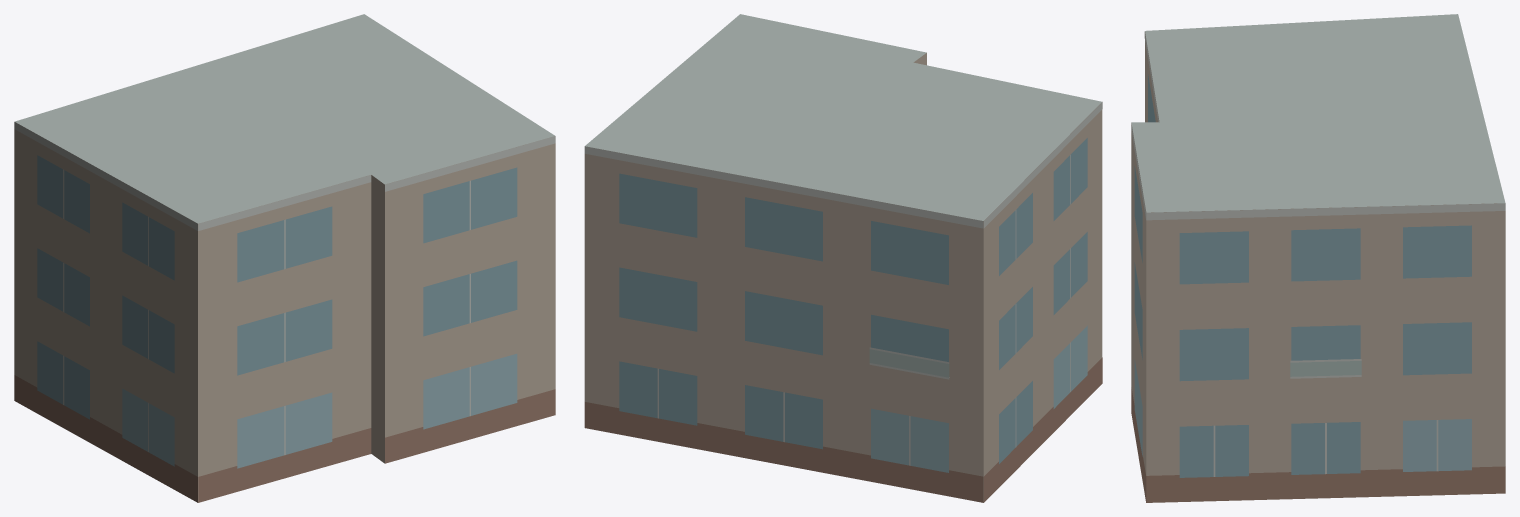
File: survey-upis-32919766.glb
3 renders of one model, left to right at view 1: azimuth 30°, elevation 25°; view 2: azimuth 150°, elevation 25°; view 3: azimuth 270°, elevation 25°, orthographic. The views are drawn at different scales.
Parts seen in each view (by area): view 1: survey-upis-32919766.tmp; view 2: survey-upis-32919766.tmp; view 3: survey-upis-32919766.tmp.
Part boxes in pixels (x1,y1,x2,y2): survey-upis-32919766.tmp: (14,14,555,502); survey-upis-32919766.tmp: (584,14,1102,502); survey-upis-32919766.tmp: (1131,14,1505,502).
Bounding box in the file's own units: 13.43 × 9.15 × 10.7.
